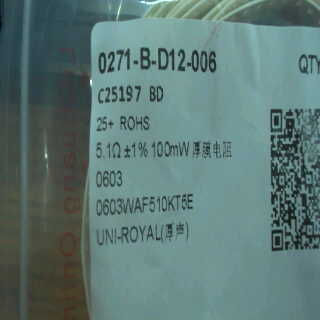5.1R: (91, 137, 133, 165)
